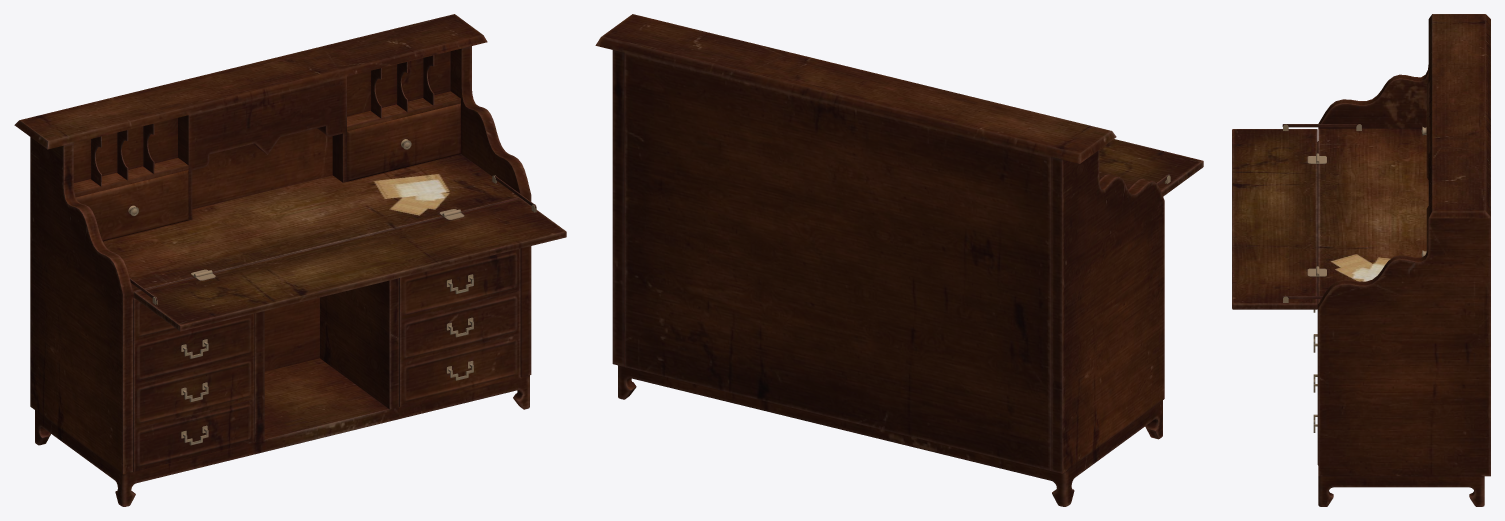
File: study_table.glb
3 renders of one model, left to right at view 1: azimuth 30°, elevation 25°; view 2: azimuth 150°, elevation 25°; view 3: azimuth 270°, elevation 25°, orthographic. The views are drawn at different scales.
Parts seen in each view (by area): view 1: XI_AR_Study_Table.Shape; view 2: XI_AR_Study_Table.Shape; view 3: XI_AR_Study_Table.Shape.
Part boxes in pixels (x1,y1,x2,y2): XI_AR_Study_Table.Shape: [14, 14, 566, 506]; XI_AR_Study_Table.Shape: [595, 14, 1203, 506]; XI_AR_Study_Table.Shape: [1232, 14, 1490, 506].
Bounding box in the file's own units: 1.74 × 1.23 × 0.9553.
1 material, 1 textured.
